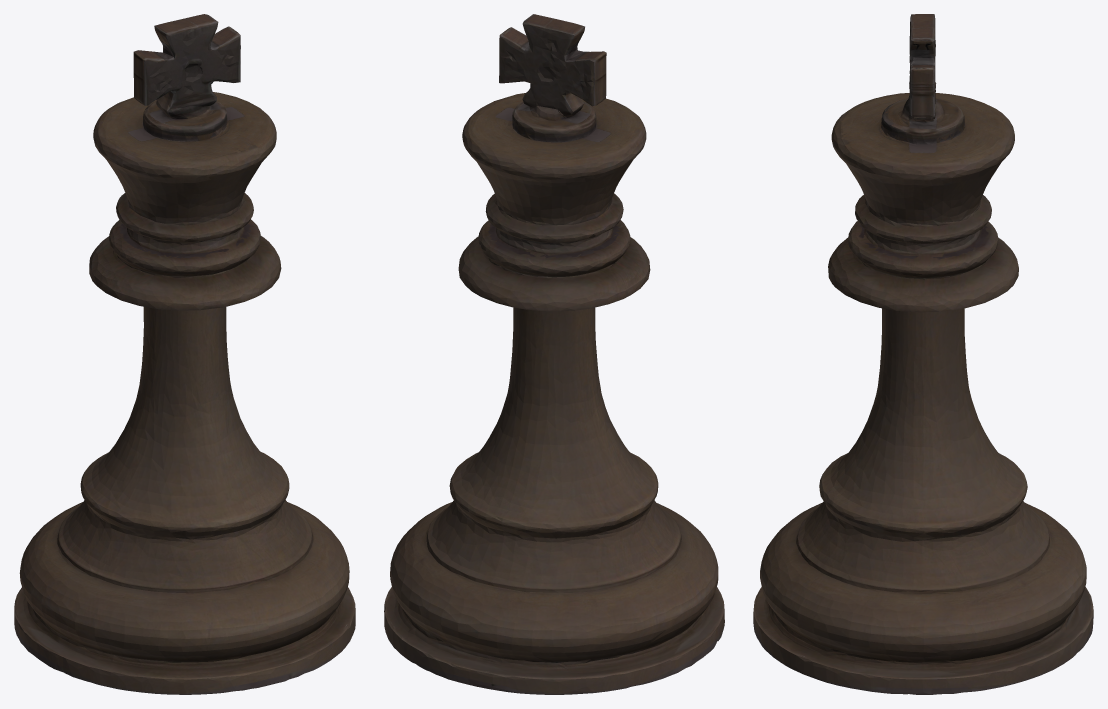
File: Faz_me_uma_peça_de_x_0708151001_texture.fbx
3 renders of one model, left to right at view 1: azimuth 30°, elevation 25°; view 2: azimuth 150°, elevation 25°; view 3: azimuth 270°, elevation 25°, orthographic.
Visible parts, largest first — view 1: temp; view 2: temp; view 3: temp.
Part boxes in pixels (x1,y1,x2,y2): temp: (14,14,355,694); temp: (384,14,724,694); temp: (753,14,1093,694).
Bounding box in the file's own units: 103 × 200 × 103.
1 material, 1 textured.
